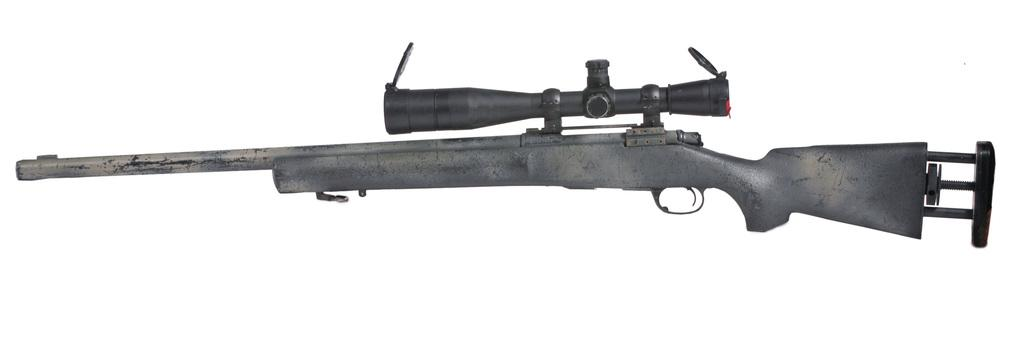Rifle: (17, 47, 996, 249)
